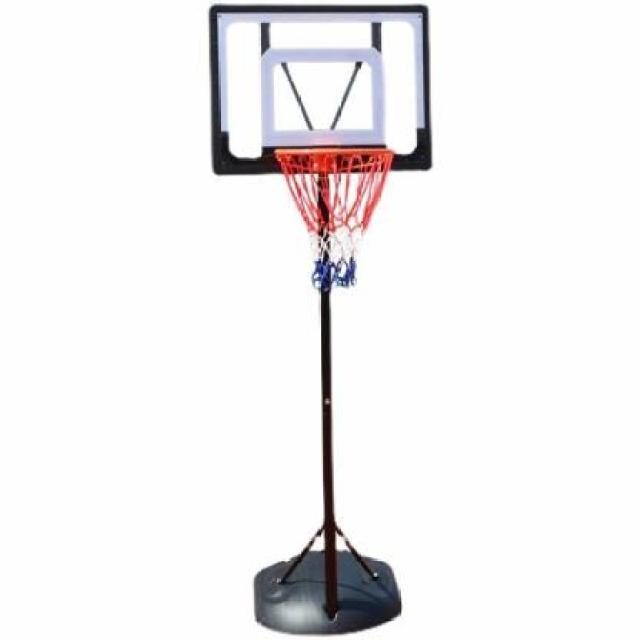rim: (272, 146, 394, 290)
